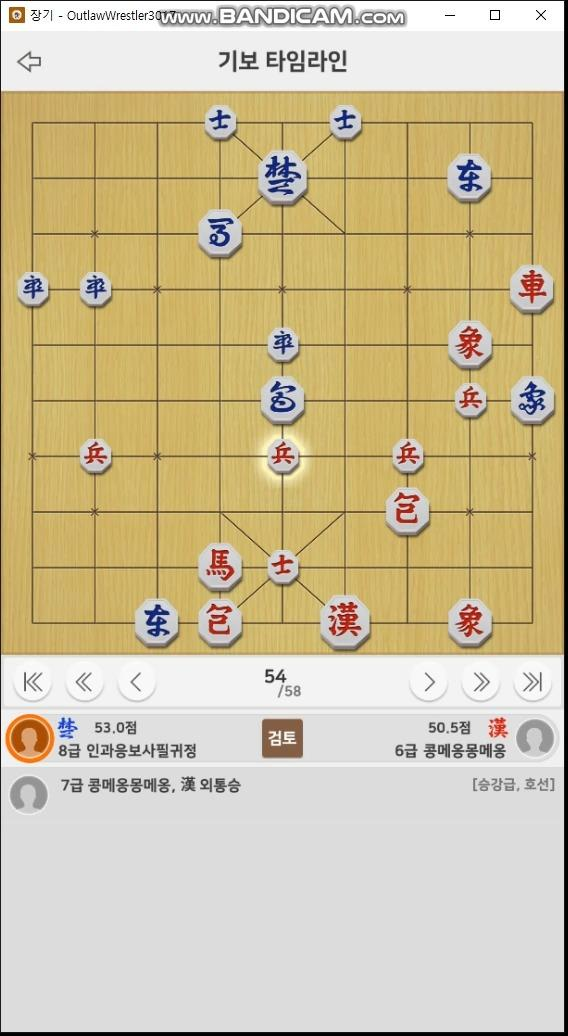cha_green: (449, 151, 491, 202), (137, 598, 179, 645)
cha_red: (512, 267, 552, 313)
jol_green: (267, 326, 303, 365), (15, 274, 50, 305), (79, 274, 111, 306)
jol_red: (268, 438, 300, 476), (79, 438, 112, 474), (394, 437, 424, 473), (456, 384, 486, 419)
ma_green: (201, 210, 243, 256)
ma_red: (198, 545, 240, 590)
po_green: (259, 377, 305, 425)
po_red: (200, 601, 243, 645), (387, 489, 428, 534)
sa_green: (328, 105, 362, 141), (205, 106, 239, 139)
sa_red: (266, 550, 299, 585)
sang_green: (510, 377, 554, 422)
sang_red: (450, 319, 493, 367), (449, 600, 492, 644)
wang_green: (260, 152, 305, 206)
wang_red: (322, 597, 370, 647)
